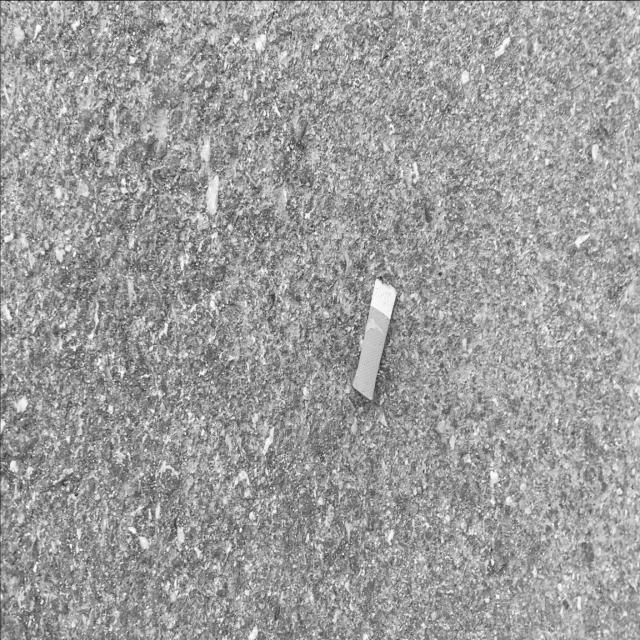other waste: (352, 276, 397, 401)
